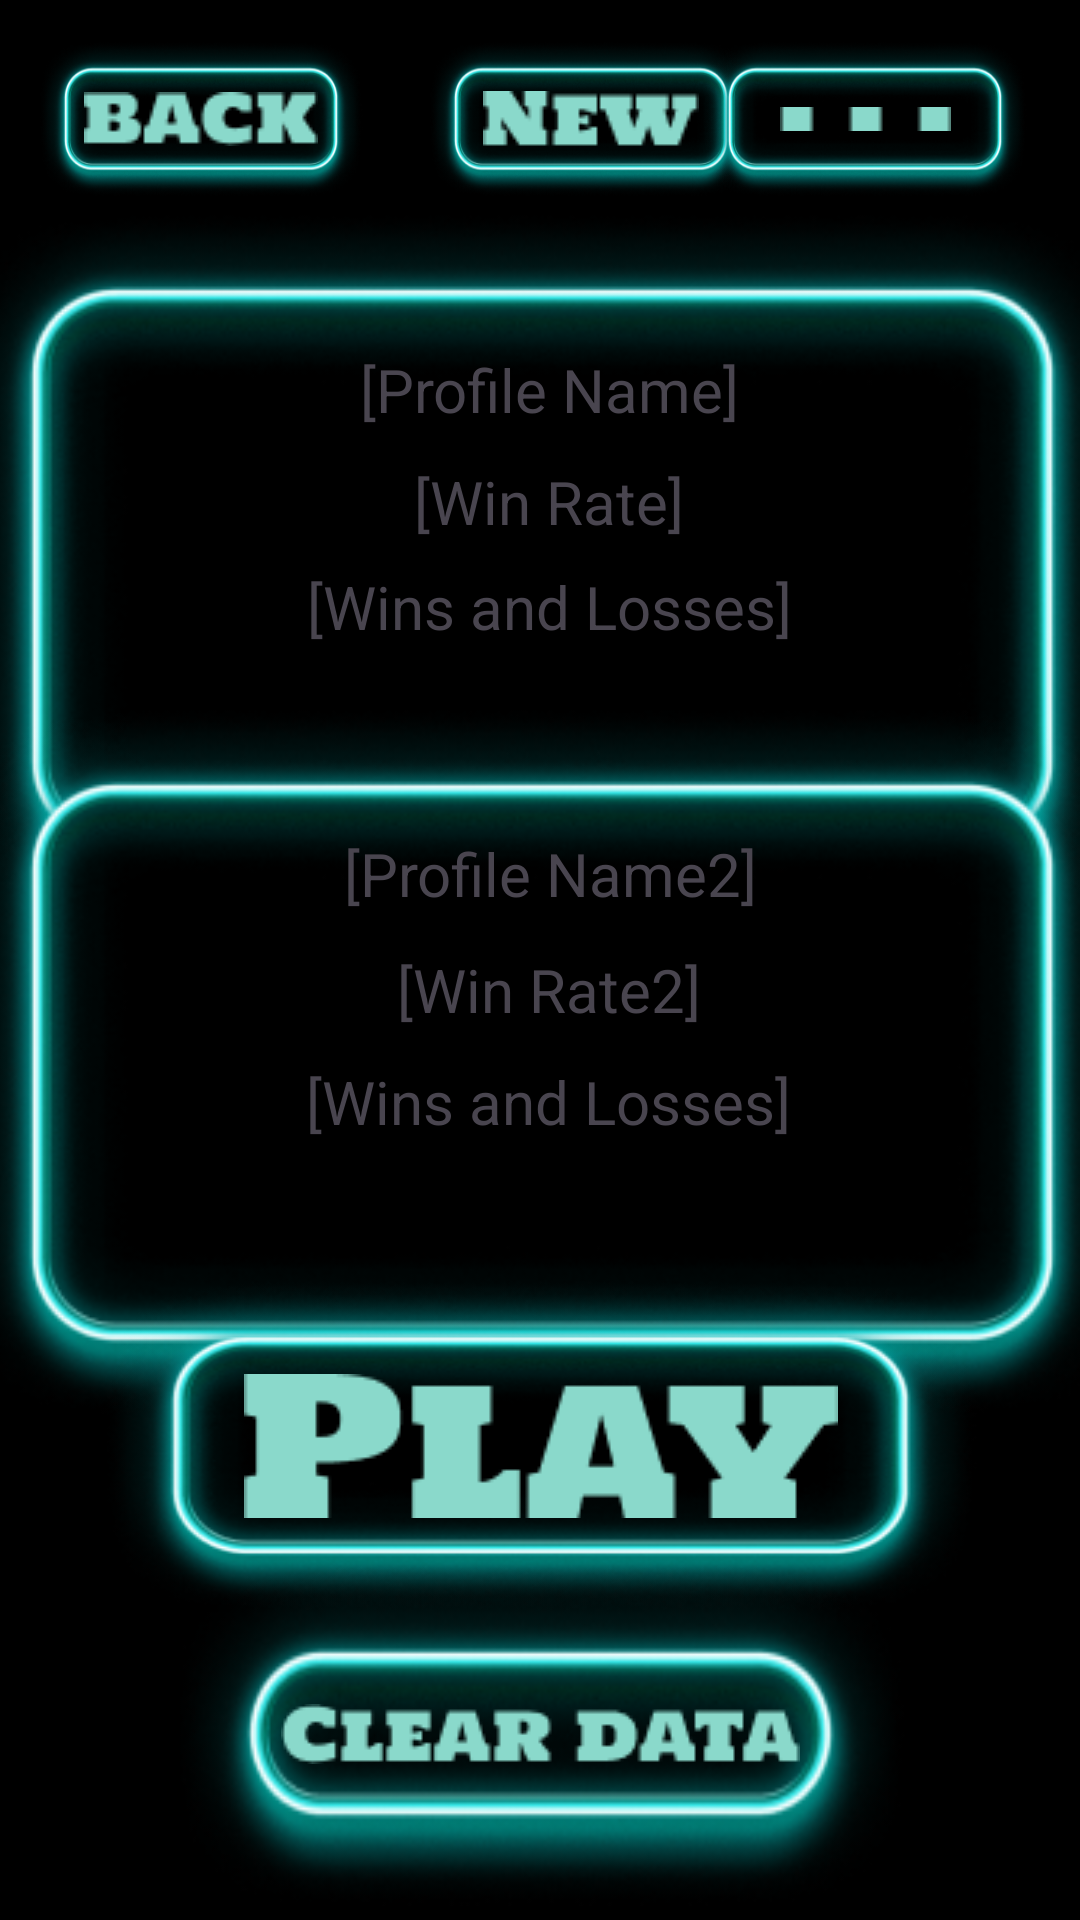

Screen size 1080px x 1920px. Icon name, then its center in pixels as [x,y]:
dots: [856,123]
